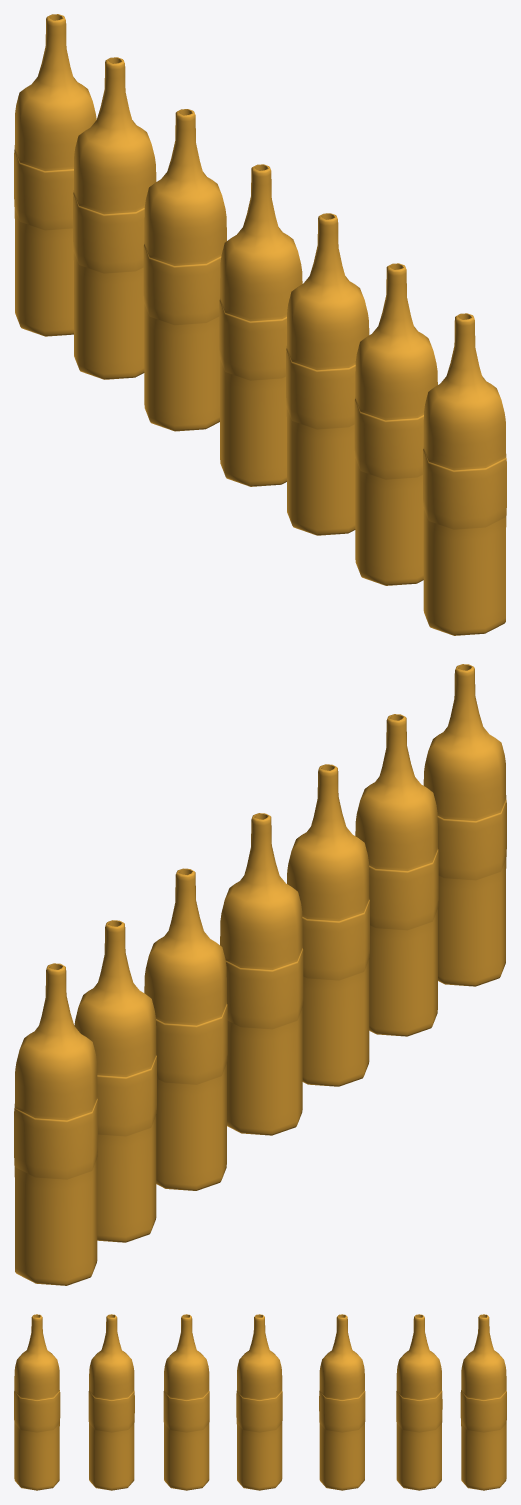
Rendered from Alcohol Bottles.fbx.
The picture shows the model from 3 angles, top to bottom: view 1: azimuth 30°, elevation 25°; view 2: azimuth 150°, elevation 25°; view 3: azimuth 270°, elevation 25°; orthographic projection. The views are drawn at different scales.
Parts seen in each view (by area): view 1: Liquor Bottle.003, Liquor Bottle.005, Liquor Bottle.006, Liquor Bottle.002, Liquor Bottle.001, Liquor Bottle.004, Liquor Bottle.007; view 2: Liquor Bottle.007, Liquor Bottle.004, Liquor Bottle.005, Liquor Bottle.001, Liquor Bottle.003, Liquor Bottle.002, Liquor Bottle.006; view 3: Liquor Bottle.001, Liquor Bottle.005, Liquor Bottle.003, Liquor Bottle.007, Liquor Bottle.002, Liquor Bottle.006, Liquor Bottle.004.
Boxes of the visible parts, box(x1,y1,x2,y2) form: Liquor Bottle.003: box(423, 313, 506, 635); Liquor Bottle.005: box(143, 109, 226, 431); Liquor Bottle.006: box(73, 57, 156, 379); Liquor Bottle.002: box(286, 213, 369, 535); Liquor Bottle.001: box(354, 263, 437, 585); Liquor Bottle.004: box(219, 164, 302, 486); Liquor Bottle.007: box(14, 14, 96, 336); Liquor Bottle.007: box(14, 963, 97, 1285); Liquor Bottle.004: box(220, 813, 303, 1135); Liquor Bottle.005: box(144, 868, 227, 1190); Liquor Bottle.001: box(355, 714, 438, 1036); Liquor Bottle.003: box(423, 664, 506, 986); Liquor Bottle.002: box(287, 764, 369, 1086); Liquor Bottle.006: box(74, 920, 156, 1242); Liquor Bottle.001: box(88, 1314, 134, 1490); Liquor Bottle.005: box(319, 1314, 365, 1490); Liquor Bottle.003: box(14, 1314, 60, 1490); Liquor Bottle.007: box(460, 1314, 506, 1490); Liquor Bottle.002: box(163, 1314, 209, 1490); Liquor Bottle.006: box(396, 1314, 442, 1490); Liquor Bottle.004: box(236, 1314, 282, 1490).
Size of the model in its own units: 9.23 by 98.3 by 36.4.
